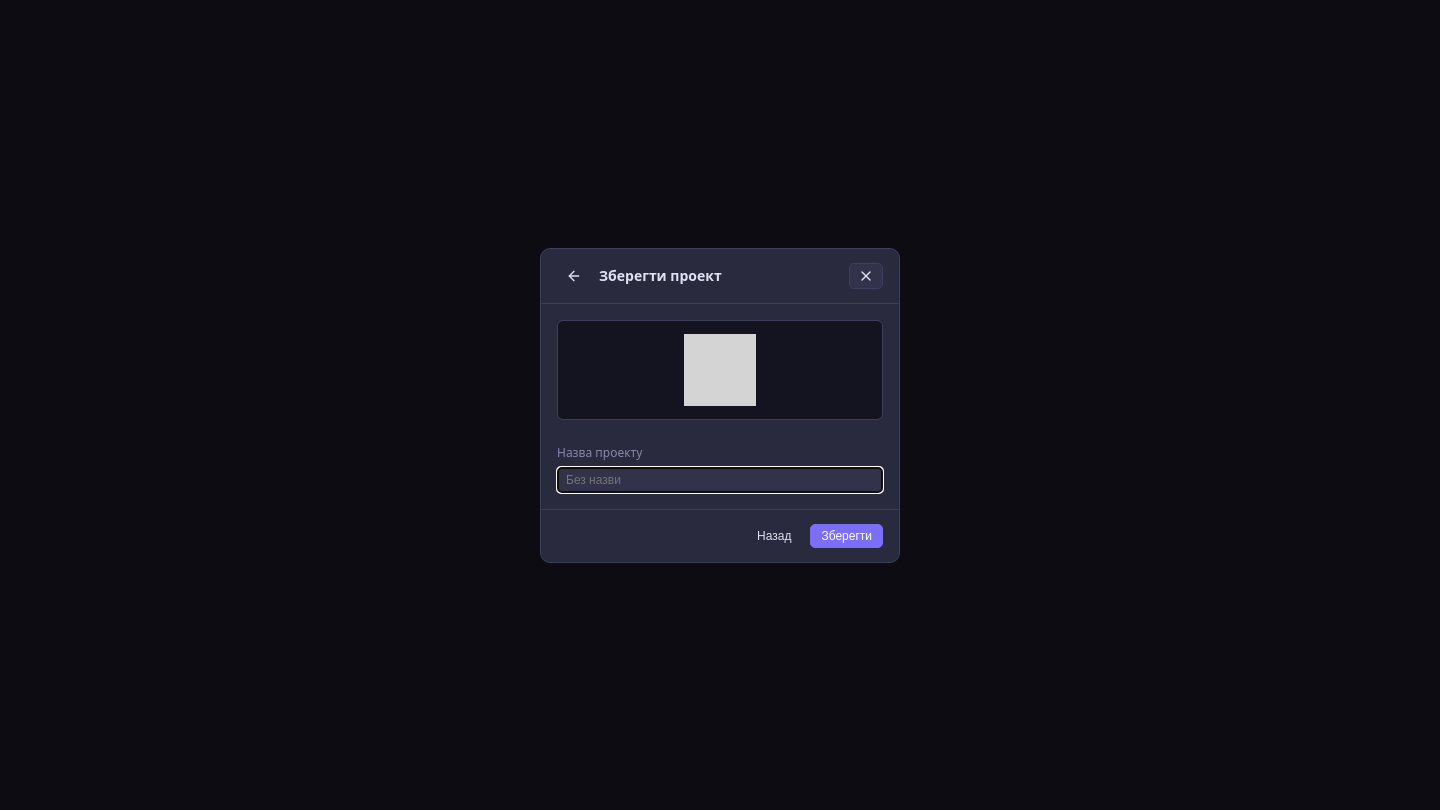
it: ProjectsModal — save view › shows LIMIT_REACHED error when at capacity
The image size is (1440, 810).
Click the button "Зберегти" at point(847, 536), box [810,524,883,548]
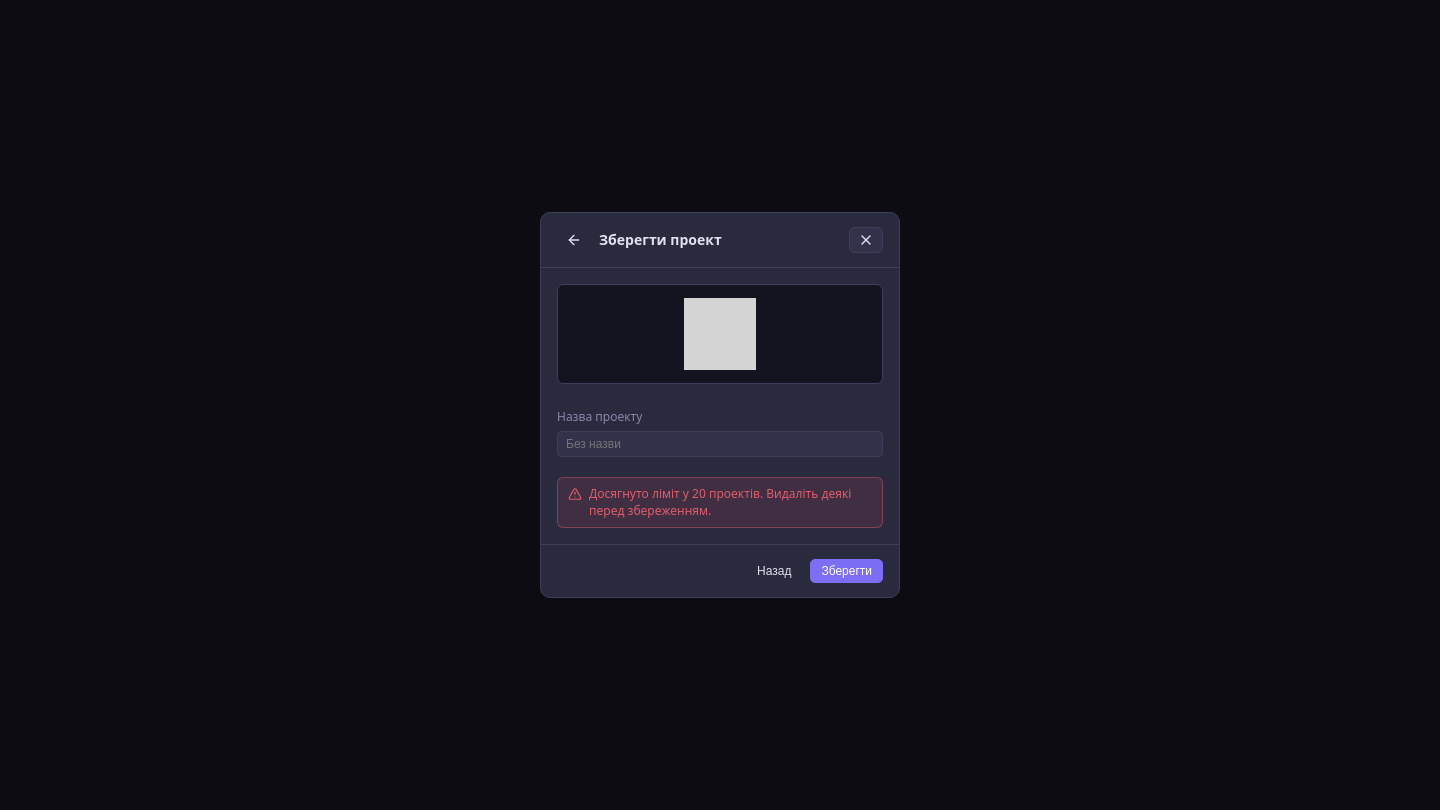
Result: the text "Досягнуто ліміт" is shown at [589,485,851,518]
